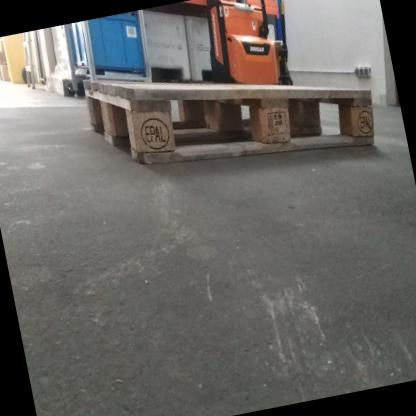BoxFace: (81, 80, 379, 168)
